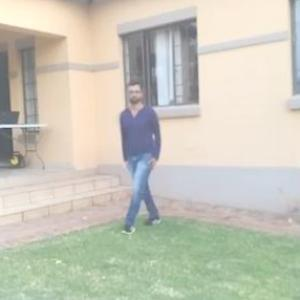follow: (123, 84, 171, 228)
